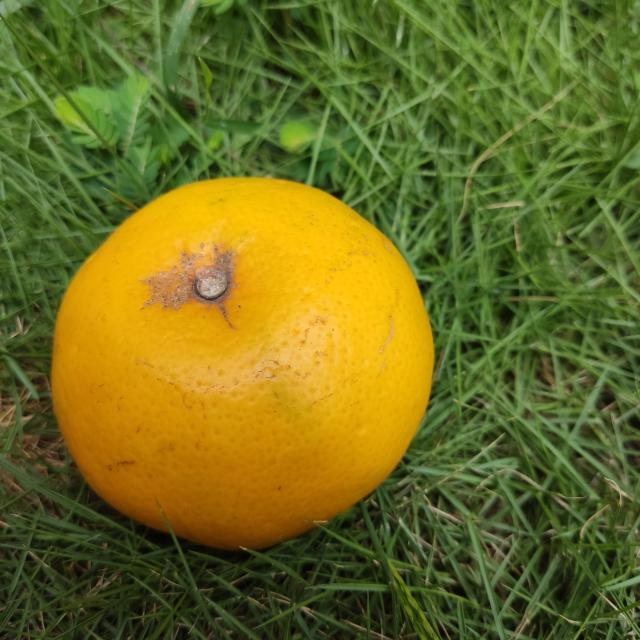orange: (50, 173, 438, 550)
